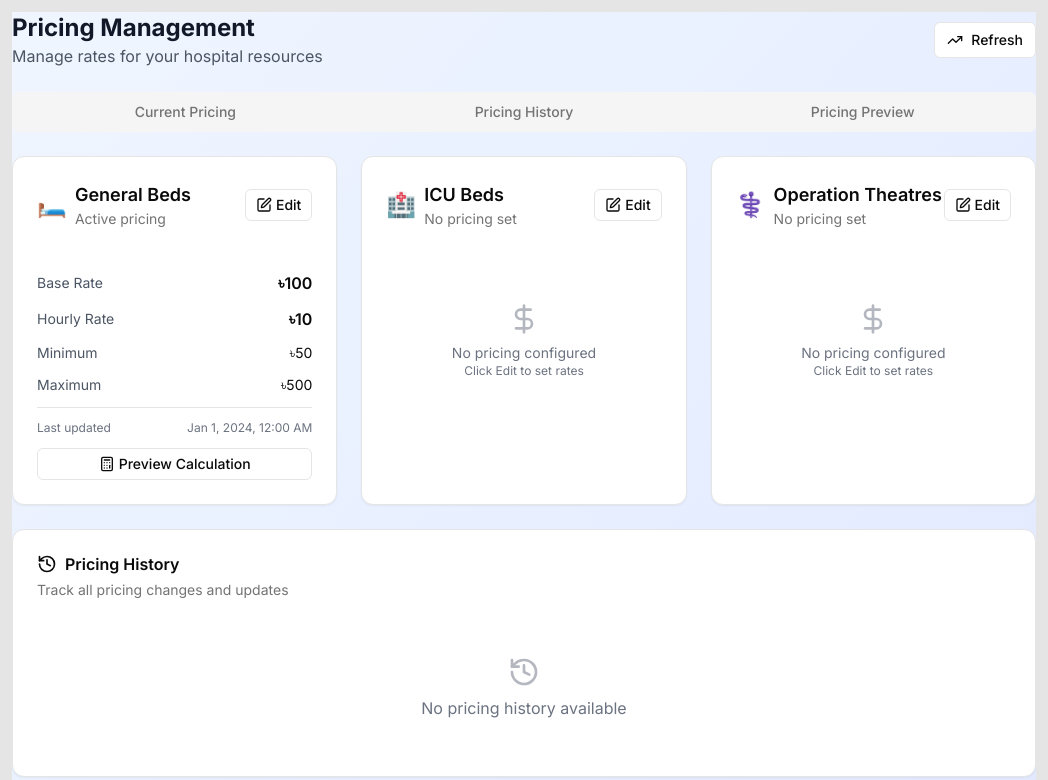
Scenario: HospitalPricingDashboard › allows editing pricing for a resource
// Find and click edit button for beds
Click the button "Edit" in the row of "Active pricing". click: (279, 205)
box: [245,189,312,221]
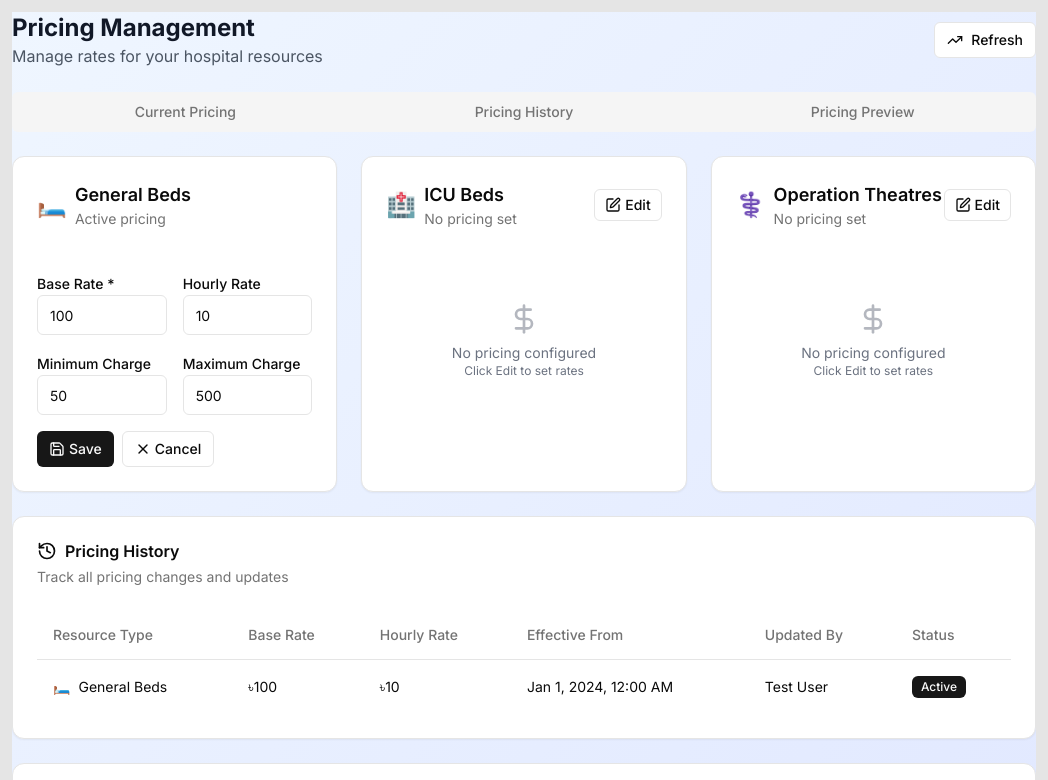
Now the number field labelled "Minimum Charge" is shown, box [37,375,167,415]
Now the number field labelled "Maximum Charge" is shown, box [183,375,312,415]
Now the number field showing "100" is shown, box [37,295,167,335]
